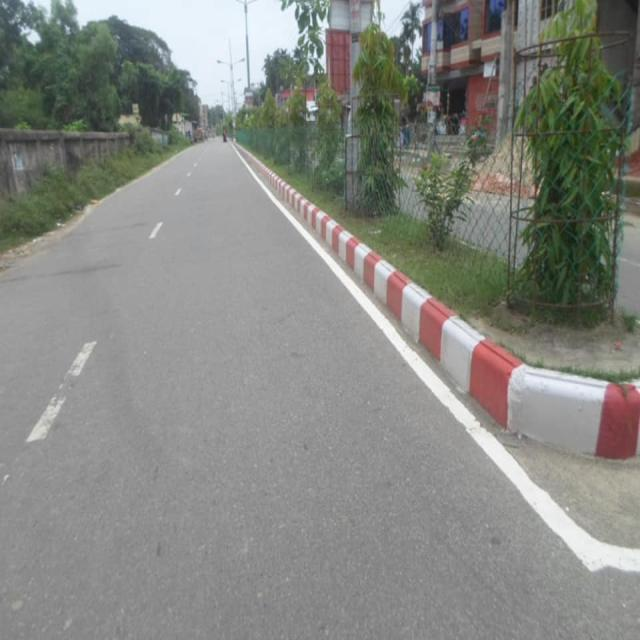Road-divider: (234, 108, 640, 472)
